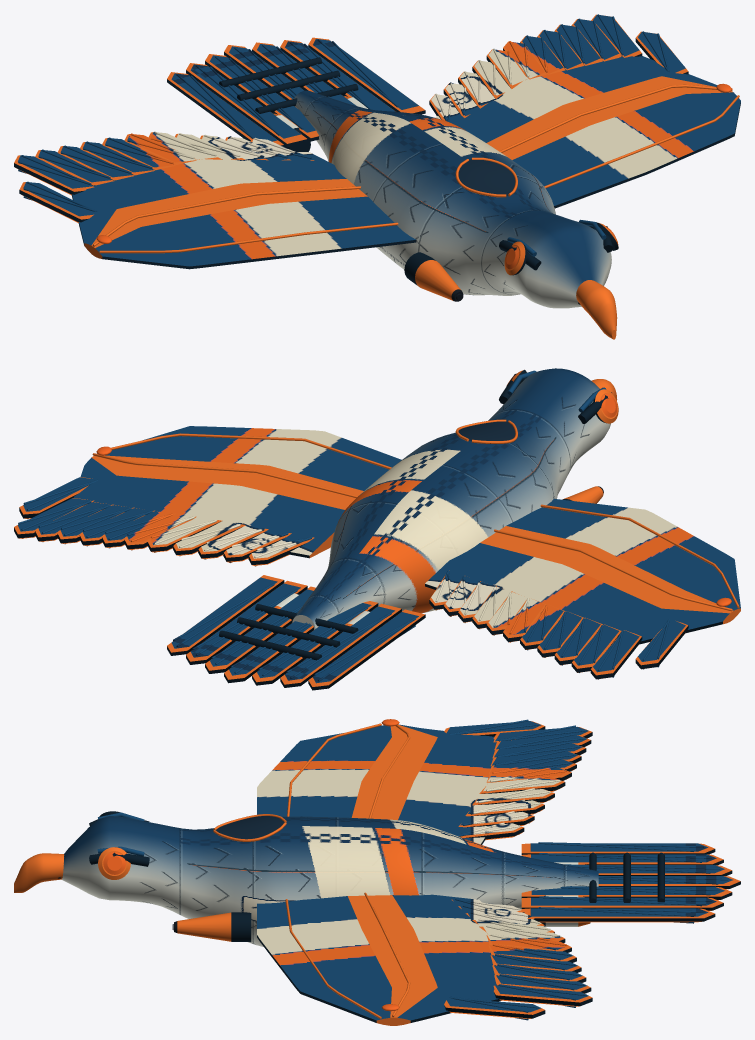
3 views of the same model, one above another, from view 1: azimuth 30°, elevation 25°; view 2: azimuth 150°, elevation 25°; view 3: azimuth 270°, elevation 25° (orthographic). The views are drawn at different scales.
Visible parts, largest first — view 1: goshawk_hull; view 2: goshawk_hull; view 3: goshawk_hull.
Part boxes in pixels (left/top/right/bottom): goshawk_hull: left=14, top=14, right=740, bottom=339; goshawk_hull: left=14, top=368, right=740, bottom=690; goshawk_hull: left=14, top=719, right=740, bottom=1025.
Size of the model in its own units: 40.23 by 7.54 by 42.
Materials: 1 (1 with a texture image).
